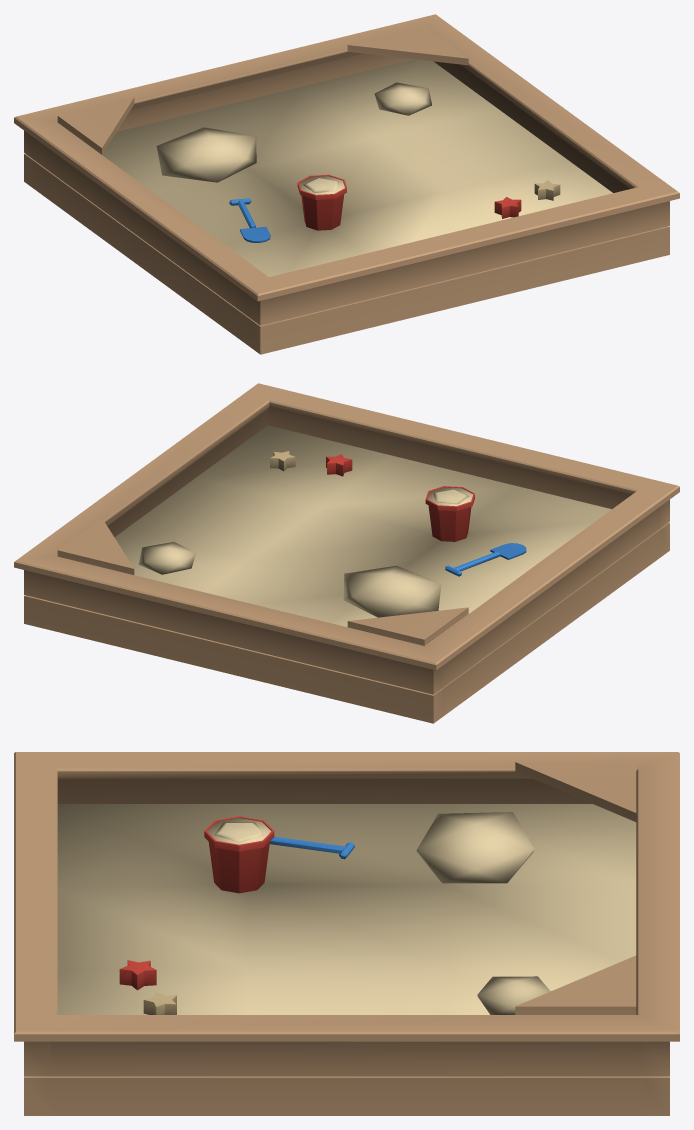
File: sandbox.far.glb
3 renders of one model, top to bottom at view 1: azimuth 30°, elevation 25°; view 2: azimuth 150°, elevation 25°; view 3: azimuth 270°, elevation 25°, orthographic. The views are drawn at different scales.
Parts seen in each view (by area): view 1: sandbox; view 2: sandbox; view 3: sandbox.
Boxes of the visible parts, box(x1,y1,x2,y2) form: sandbox: box(14, 14, 679, 354); sandbox: box(14, 383, 679, 723); sandbox: box(14, 752, 679, 1115).
Size of the model in its own units: 1.98 by 0.3535 by 1.98.
